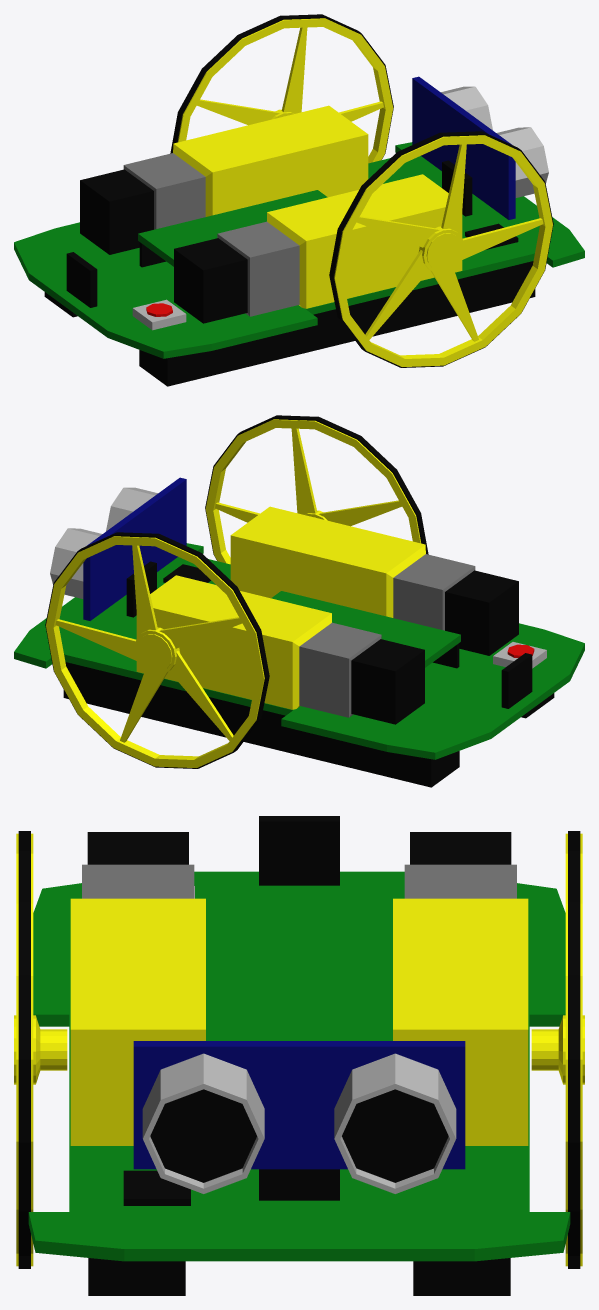
Rendered from pico_arp.gltf.
3 views of the same model, one above another, from view 1: azimuth 30°, elevation 25°; view 2: azimuth 150°, elevation 25°; view 3: azimuth 270°, elevation 25° (orthographic). The views are drawn at different scales.
Parts seen in each view (by area): view 1: moteur, roue, chassis, bloc_piles, capteur_distance, pi_pico, connecteur_arriere, bouton, connecteur_avant; view 2: moteur, roue, chassis, bloc_piles, capteur_distance, pi_pico, connecteur_arriere, bouton, connecteur_avant; view 3: moteur, chassis, capteur_distance, pi_pico, roue, bloc_piles, connecteur_arriere, connecteur_avant, buzzer.
Part boxes in pixels (x1=…): moteur: x1=80, y1=105, x2=462, y2=323; roue: x1=170, y1=14, x2=553, y2=367; chassis: x1=14, y1=142, x2=584, y2=358; bloc_piles: x1=44, y1=261, x2=535, y2=386; capteur_distance: x1=412, y1=76, x2=548, y2=219; pi_pico: x1=138, y1=190, x2=327, y2=266; connecteur_arriere: x1=66, y1=252, x2=97, y2=307; bouton: x1=132, y1=299, x2=186, y2=330; connecteur_avant: x1=442, y1=160, x2=472, y2=216; moteur: x1=136, y1=506, x2=518, y2=724; roue: x1=45, y1=415, x2=428, y2=768; chassis: x1=14, y1=543, x2=584, y2=759; bloc_piles: x1=63, y1=662, x2=554, y2=787; capteur_distance: x1=50, y1=477, x2=186, y2=620; pi_pico: x1=271, y1=591, x2=460, y2=667; connecteur_arriere: x1=501, y1=653, x2=532, y2=708; bouton: x1=493, y1=642, x2=546, y2=668; connecteur_avant: x1=126, y1=561, x2=156, y2=617; moteur: x1=70, y1=832, x2=528, y2=1145; chassis: x1=28, y1=871, x2=570, y2=1261; capteur_distance: x1=133, y1=1041, x2=465, y2=1193; pi_pico: x1=231, y1=891, x2=367, y2=1040; roue: x1=14, y1=831, x2=584, y2=1268; bloc_piles: x1=88, y1=1258, x2=510, y2=1295; connecteur_arriere: x1=259, y1=816, x2=339, y2=885; connecteur_avant: x1=259, y1=1169, x2=339, y2=1200; buzzer: x1=123, y1=1170, x2=190, y2=1205.
Bounding box in the file's own units: 13.2 × 6.48 × 8.44.
